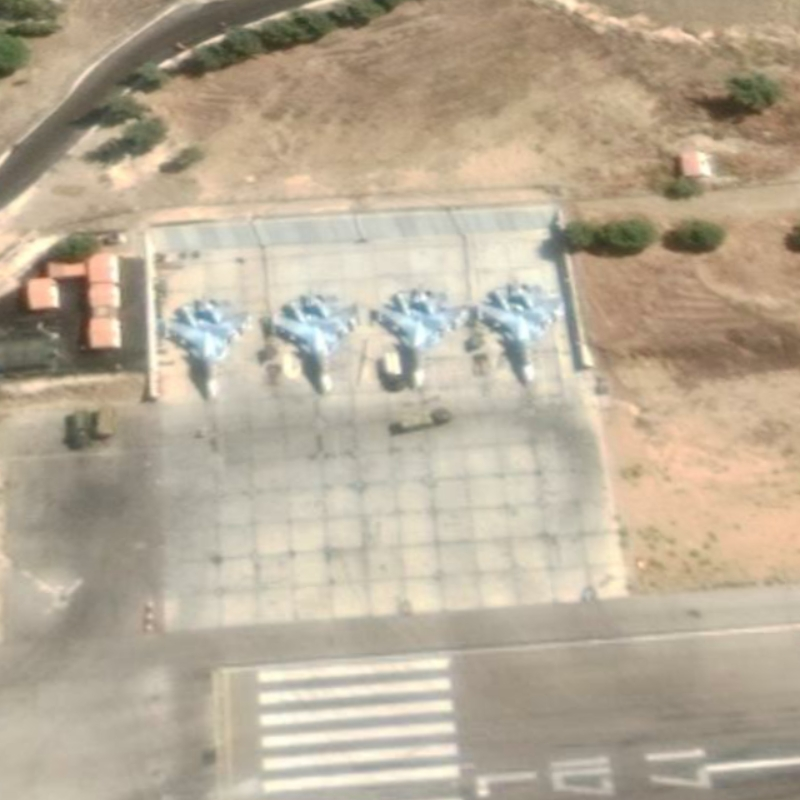A19: (373, 280, 471, 391), (268, 288, 365, 397), (160, 293, 255, 402), (475, 276, 568, 385)
